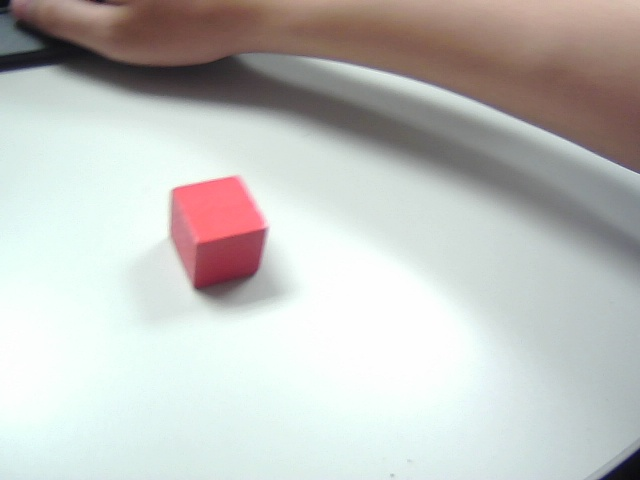redbox: (153, 160, 282, 290)
